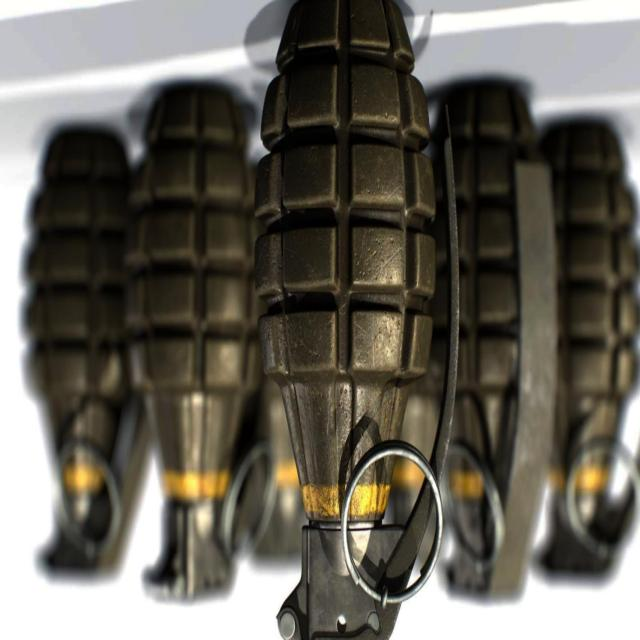grenade: (254, 2, 461, 640), (121, 82, 271, 602), (432, 85, 560, 605), (21, 129, 151, 585), (532, 122, 640, 588)
